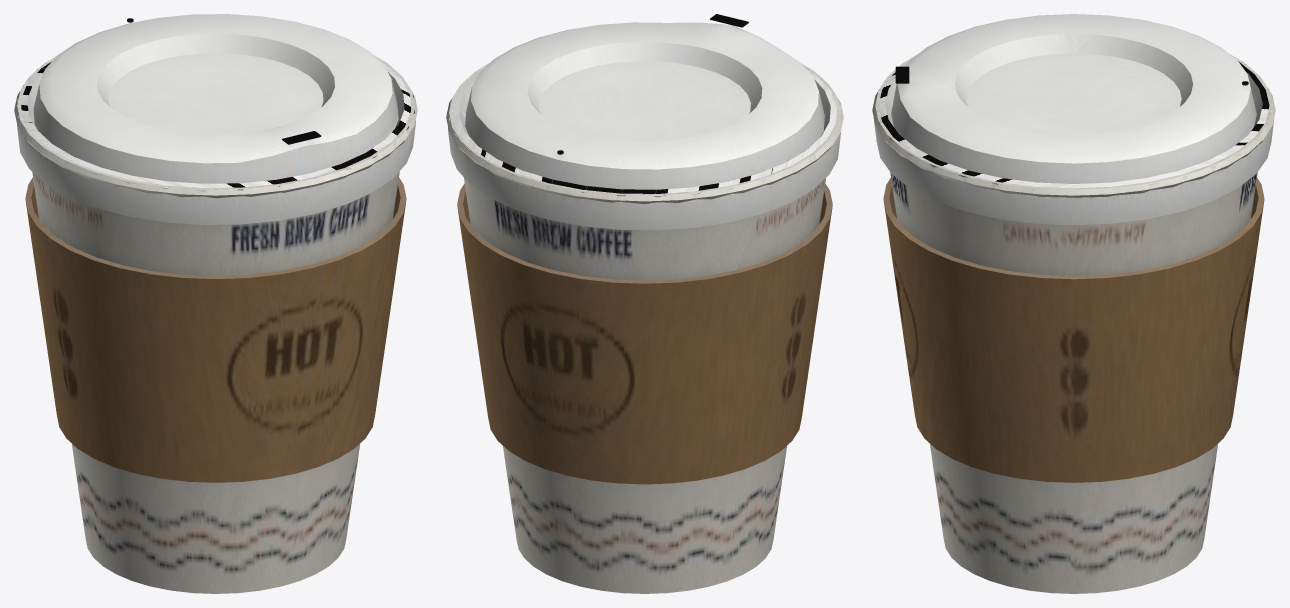
Rendered from SM_PL_Takeout_CoffeeCup_clean.fbx.
3 views of the same model, side by side, from view 1: azimuth 30°, elevation 25°; view 2: azimuth 150°, elevation 25°; view 3: azimuth 270°, elevation 25° (orthographic).
Visible parts, largest first — view 1: SM_PL_Takeout_CoffeeCup_clean; view 2: SM_PL_Takeout_CoffeeCup_clean; view 3: SM_PL_Takeout_CoffeeCup_clean.
Boxes of the visible parts, x1,y1,x2,y2 form: SM_PL_Takeout_CoffeeCup_clean: (14, 14, 417, 593); SM_PL_Takeout_CoffeeCup_clean: (446, 14, 843, 593); SM_PL_Takeout_CoffeeCup_clean: (872, 14, 1275, 593).
Size of the model in its own units: 0.0944 by 0.1199 by 0.0944.
1 material, 1 textured.
